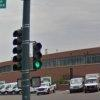Traffic light: (7, 17, 51, 79)
